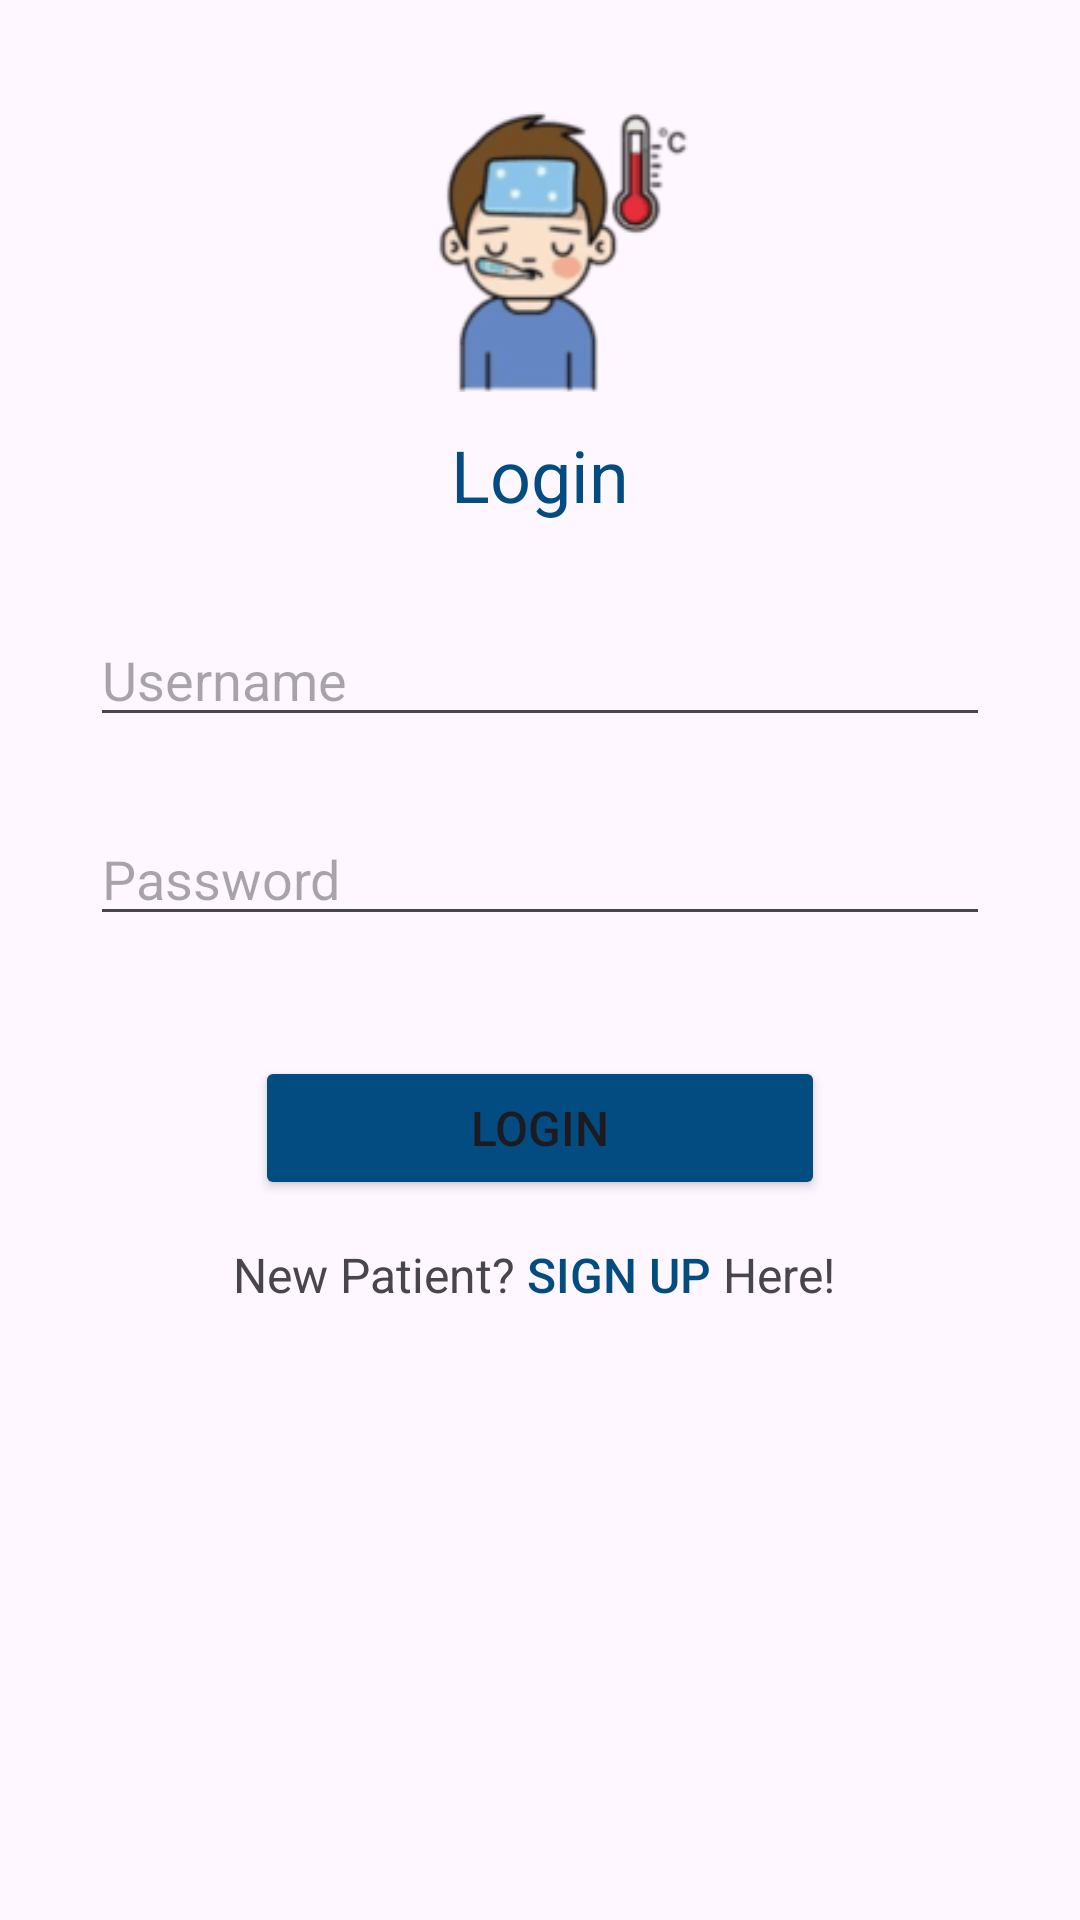

Screen size 1080×1920. Icon name, then its box in pixels as rect(x1, y1, x2, y2):
patient: rect(439, 113, 686, 392)
